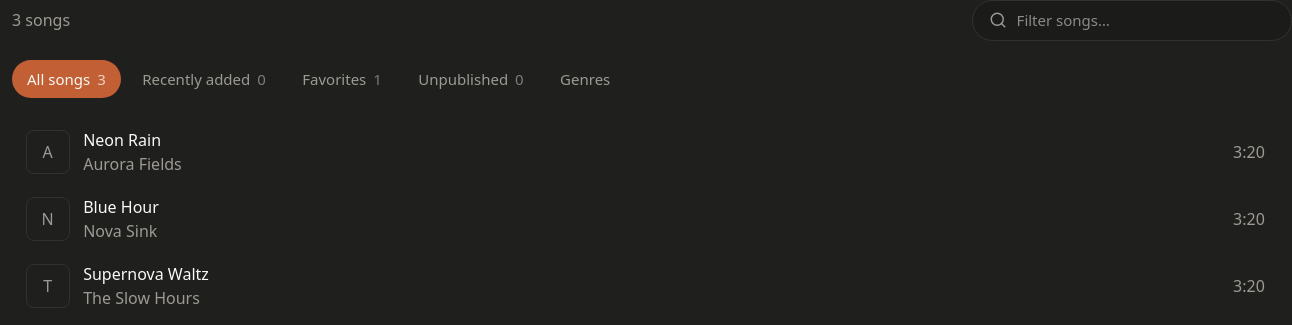
Test case: Library counts › when the field's own clear button is used, then the whole list returns
Type "blue" into the field labelled "Filter songs" at (1146, 20), box [1017,9,1275,32]
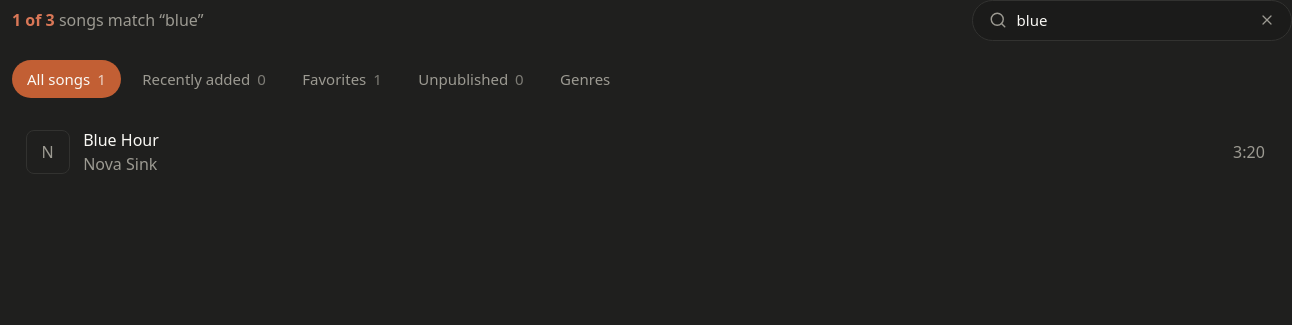
When the ✕ inside the field is clicked
Click the button named "Clear the filter" at (1267, 20), box [1259,12,1275,28]
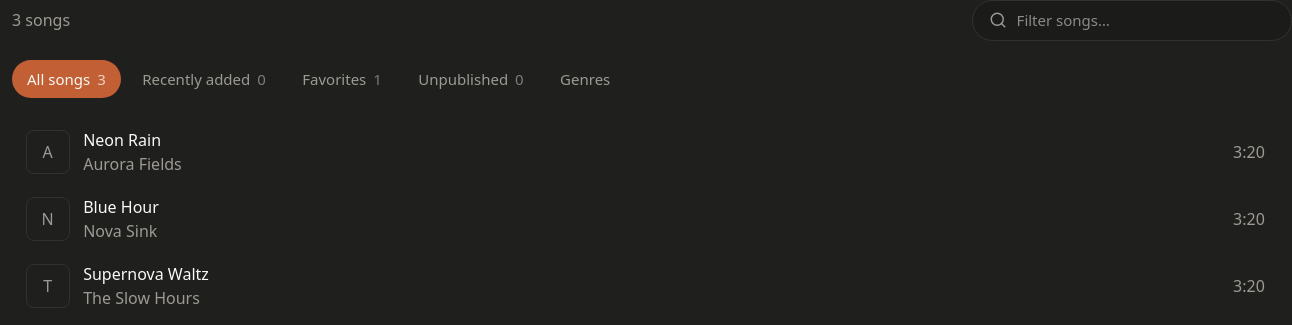
Check: the field labelled "Filter songs" is empty, box [1017,9,1275,32]
